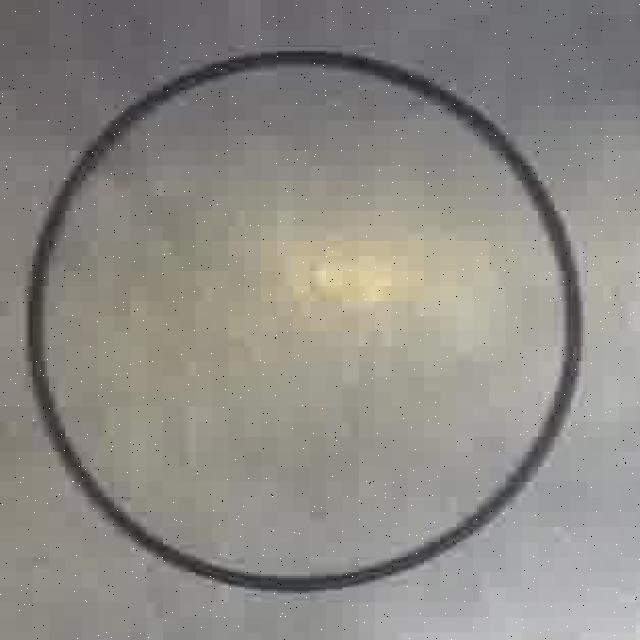Circle: (24, 47, 587, 591)
